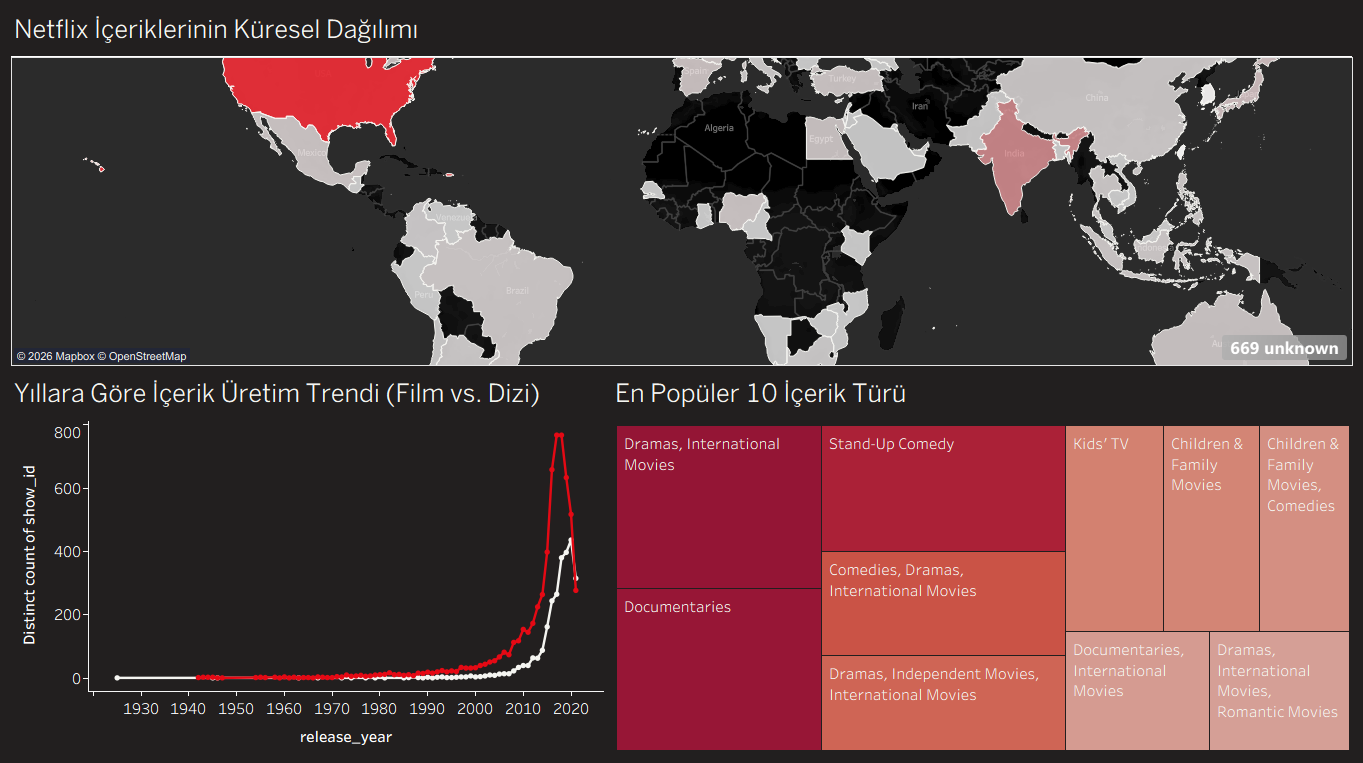

This screenshot's page, from the dashboard's own definition file:
{"tool":"tableau","page":{"name":"Dashboard 1","canvas":[1366,768],"ordinal":0},"visuals":[{"type":"worksheet","title":"Global İçerik Haritası","mark":"Multipolygon","box":[8,8,1350,364]},{"type":"worksheet","title":"Yıllara Göre İçerik Trendi","mark":"Line","rows":["show_id"],"cols":["release_year"],"box":[8,372,601,388]},{"type":"worksheet","title":"En Popüler 10 Tür","mark":"Automatic","box":[609,372,749,388]}]}

Visuals, with their boxes in screenshot pixels (x1, y1, x2, y2), scaled from the page's 1366x768 canvas onto the 1363x763 screenshot:
"Global İçerik Haritası" worksheet (Multipolygon marks): [x1=8, y1=8, x2=1355, y2=370]
"Yıllara Göre İçerik Trendi" worksheet (Line marks): [x1=8, y1=370, x2=608, y2=755]
"En Popüler 10 Tür" worksheet: [x1=608, y1=370, x2=1355, y2=755]
